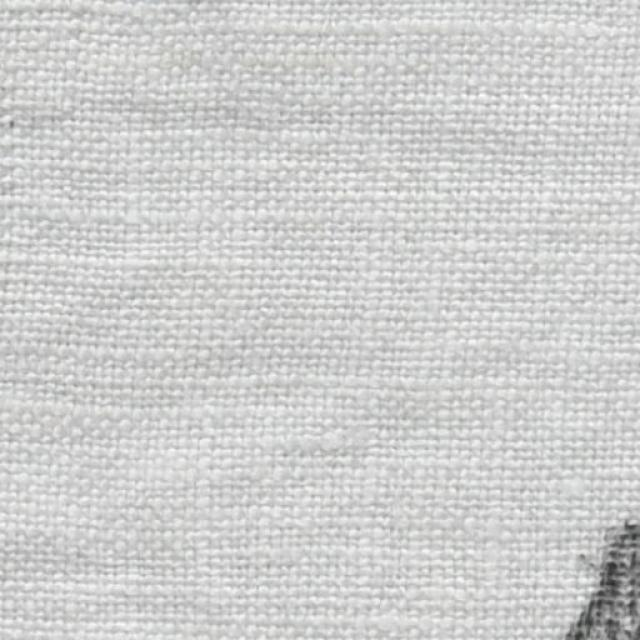Stain: (546, 518, 639, 639)
